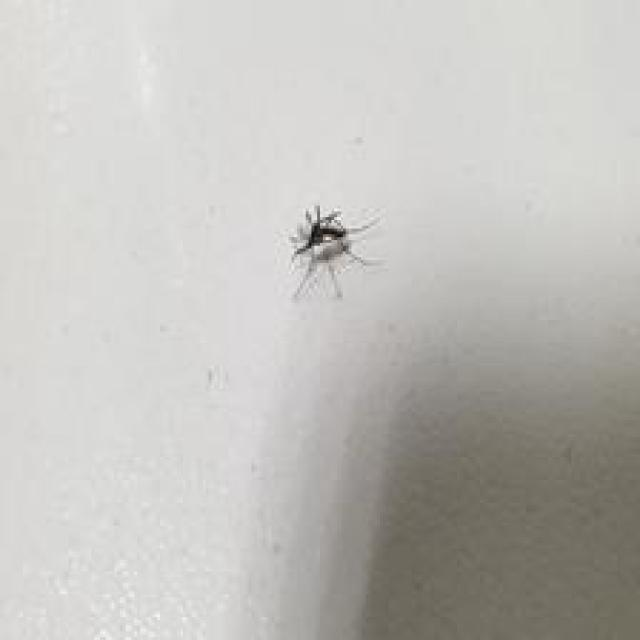Aedes albopictus: (287, 205, 382, 302)
